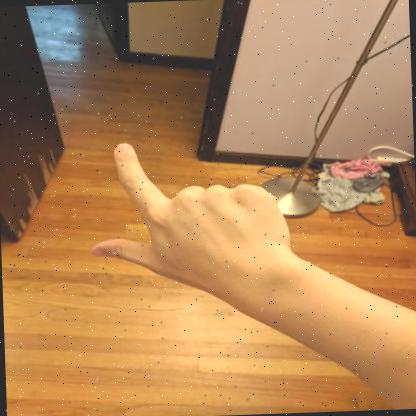L: (91, 144, 295, 294)
